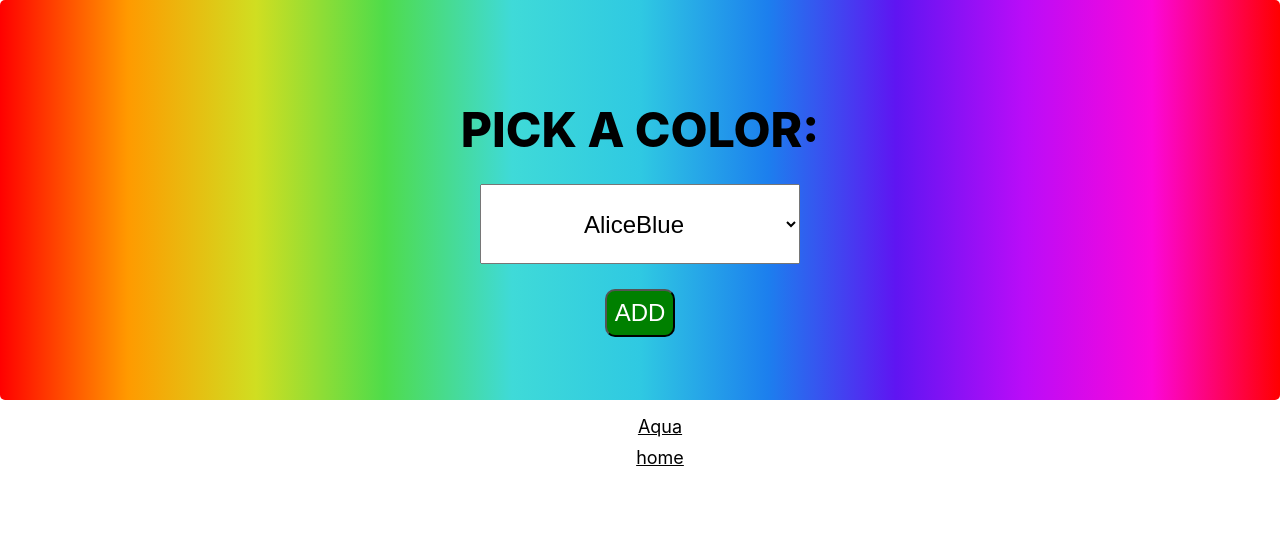
Test case: /colors/new => can add a new color to the navbar
Check: the button "ADD" is shown, box [605,289,675,337]
Select "Green" in the dropdown labelled "PICK A COLOR:" at (640, 224), box [480,184,800,264]
Click the button "ADD" at (640, 313), box [605,289,675,337]
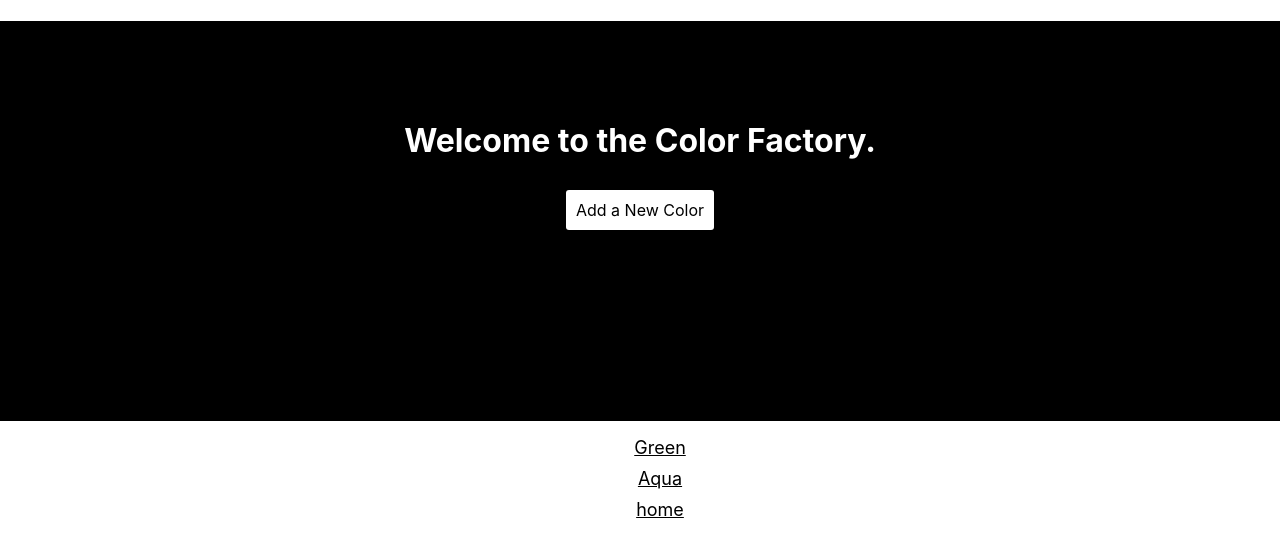
Check: the link "Green" is shown, box [634,437,686,458]
